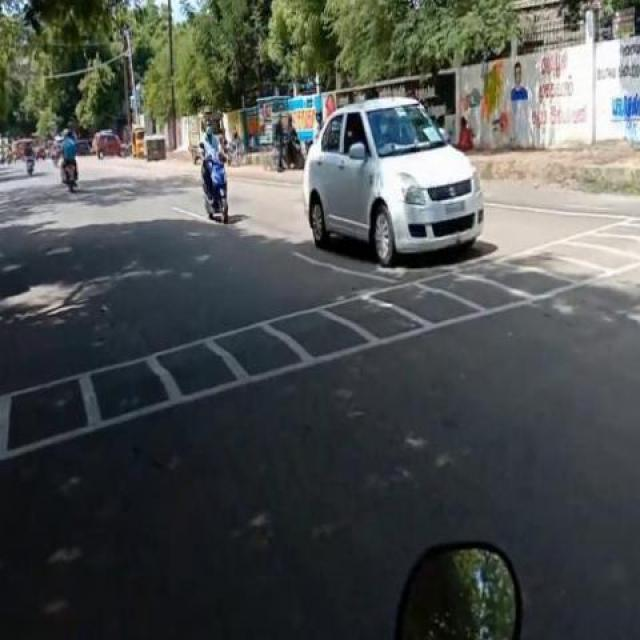Speed Bump: (0, 270, 451, 473), (478, 217, 639, 324)
